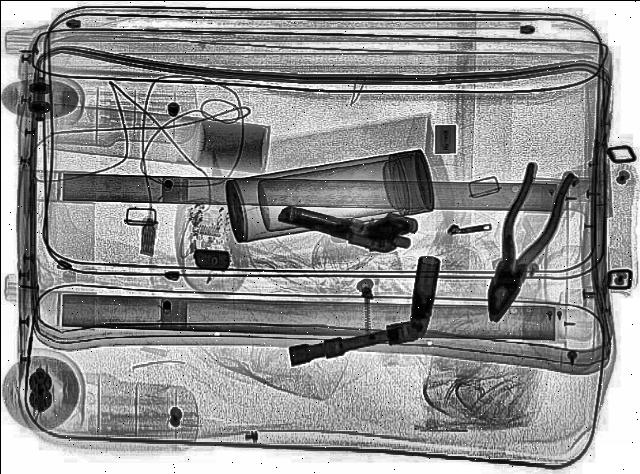Gun: (272, 180, 424, 262)
Pliers: (464, 161, 576, 325)
